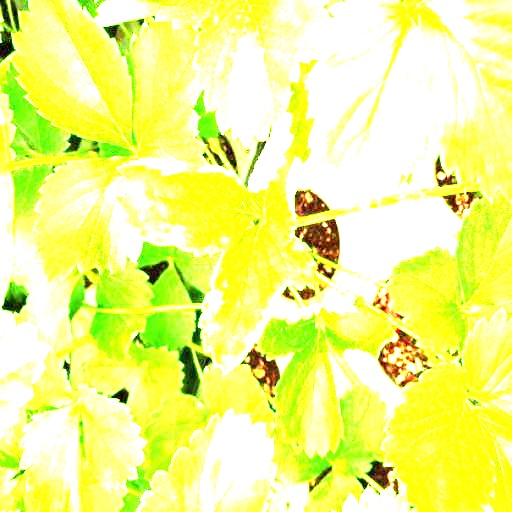Powdery Mildew Leaf: (199, 220, 318, 377), (110, 157, 259, 257), (136, 407, 278, 511), (249, 59, 320, 249), (321, 293, 397, 360), (255, 303, 320, 360)
